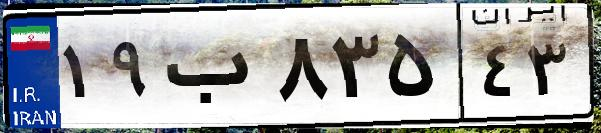1: (57, 26, 110, 100)
3: (330, 28, 385, 110), (525, 38, 570, 115)
4: (475, 38, 525, 113)
5: (385, 28, 445, 110)
8: (270, 28, 330, 110)
9: (110, 28, 158, 98)
ب: (158, 20, 270, 120)
